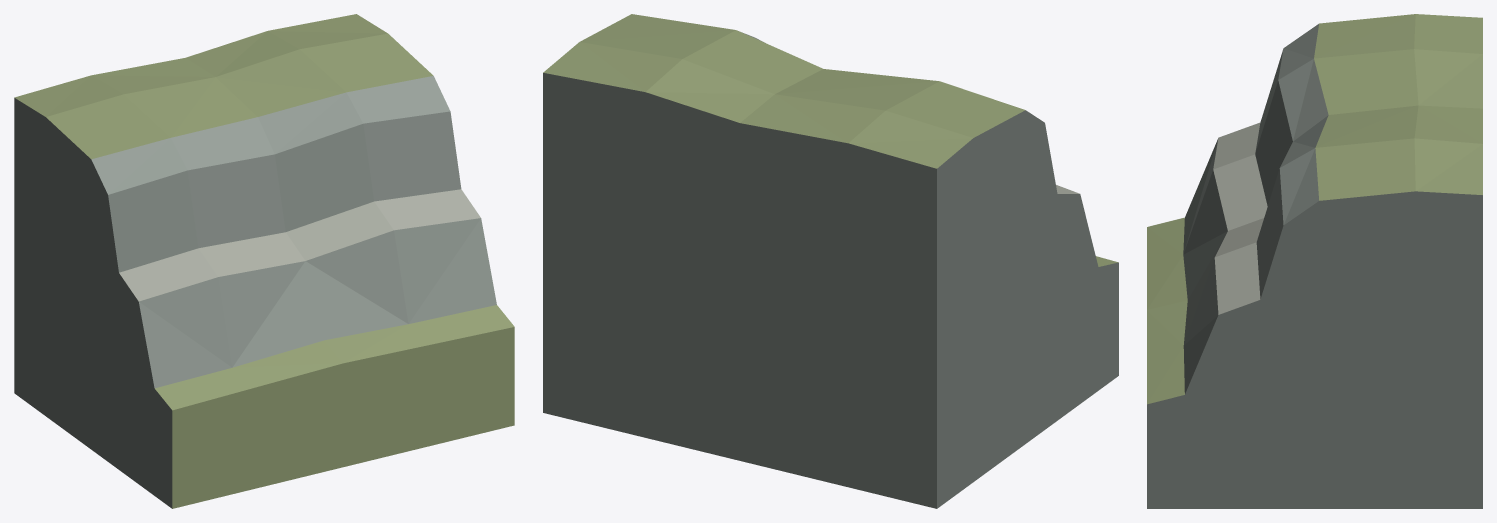
3 renders of one model, left to right at view 1: azimuth 30°, elevation 25°; view 2: azimuth 150°, elevation 25°; view 3: azimuth 270°, elevation 25°, orthographic. The views are drawn at different scales.
Visible parts, largest first — view 1: Escarpment_ContinuousTerrain; view 2: Escarpment_ContinuousTerrain; view 3: Escarpment_ContinuousTerrain.
Boxes of the visible parts, x1,y1,x2,y2 form: Escarpment_ContinuousTerrain: (14, 14, 514, 508); Escarpment_ContinuousTerrain: (543, 14, 1118, 508); Escarpment_ContinuousTerrain: (1147, 14, 1482, 508).
Size of the model in its own units: 2 by 1.71 by 1.6.
